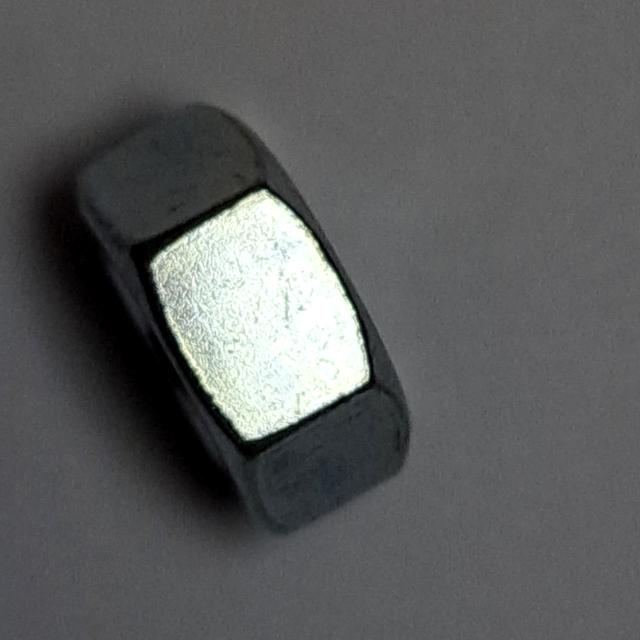Side_Excellent: (55, 96, 424, 556)
